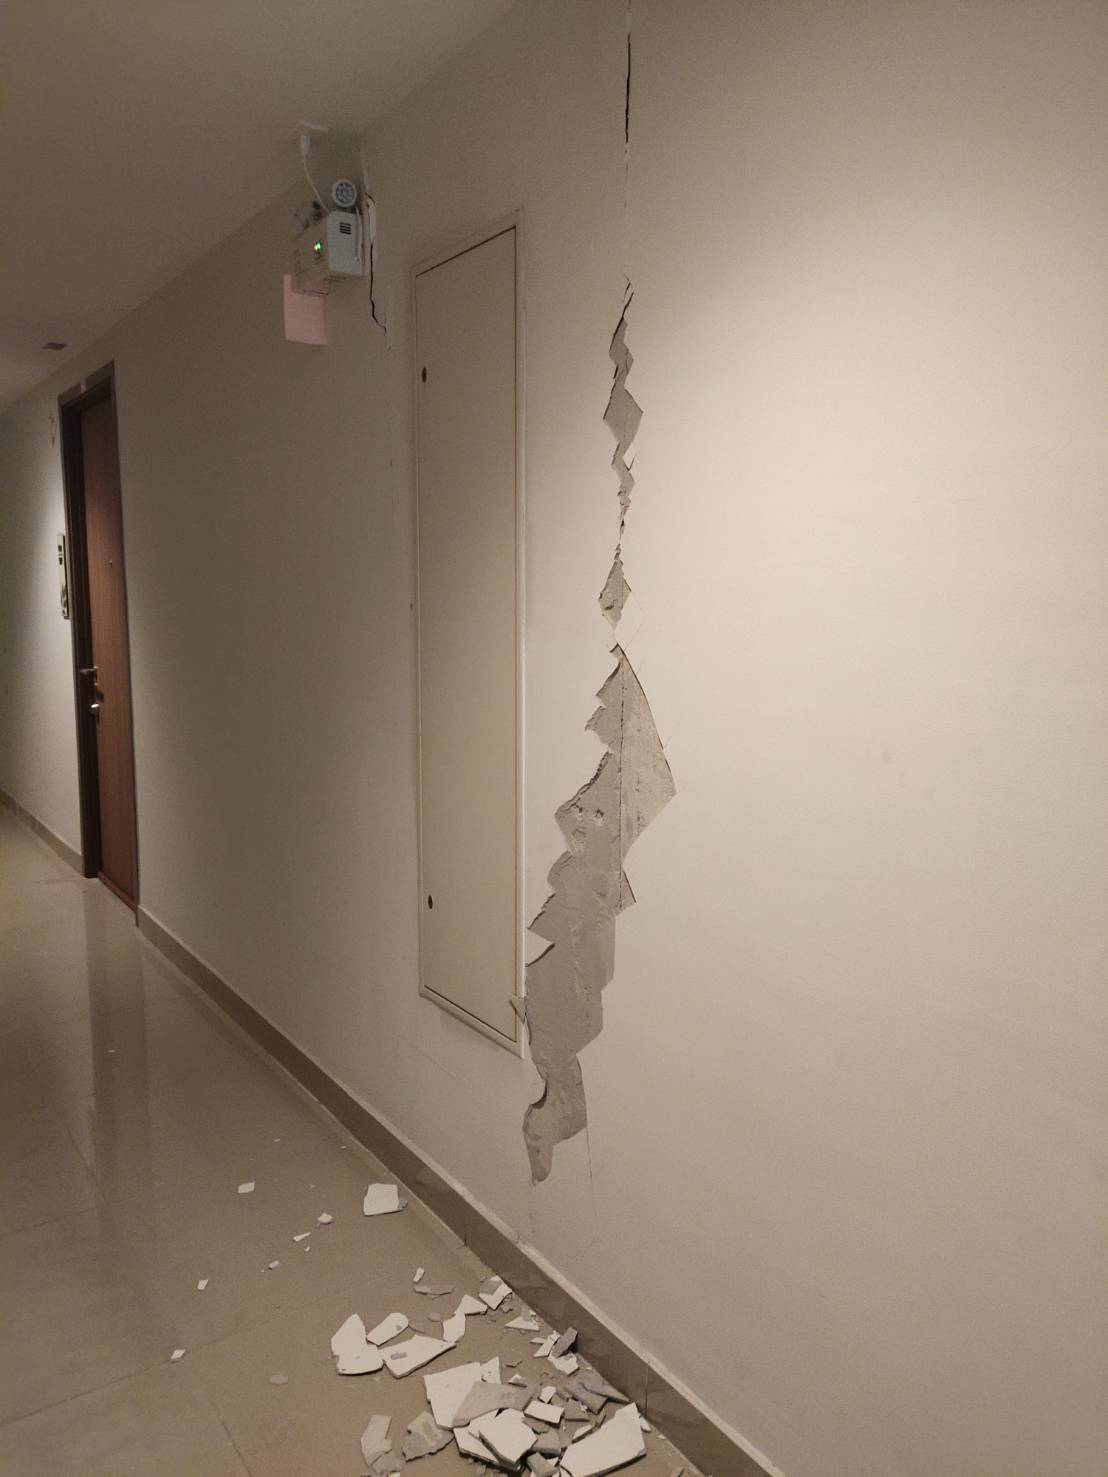Low: (520, 1, 687, 1186)
